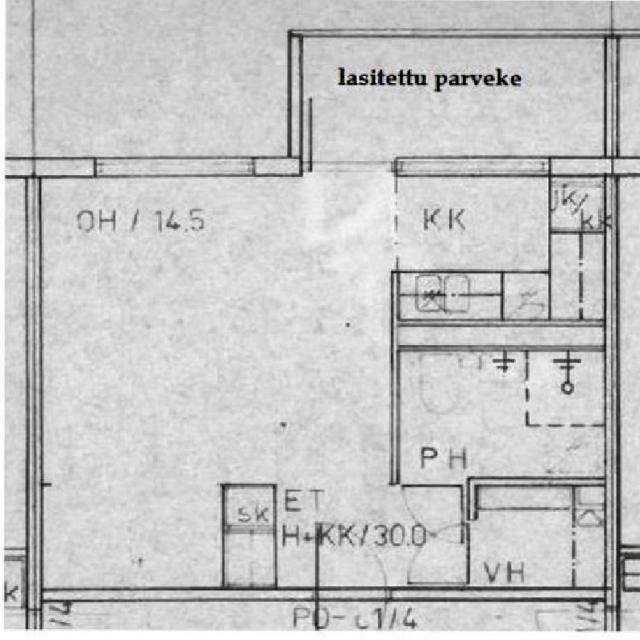door: (310, 78, 392, 176), (317, 520, 385, 601), (406, 524, 476, 584), (402, 478, 462, 542)
